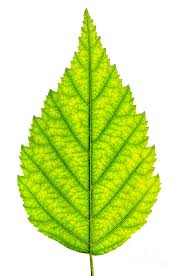leaf: (16, 9, 160, 276)
